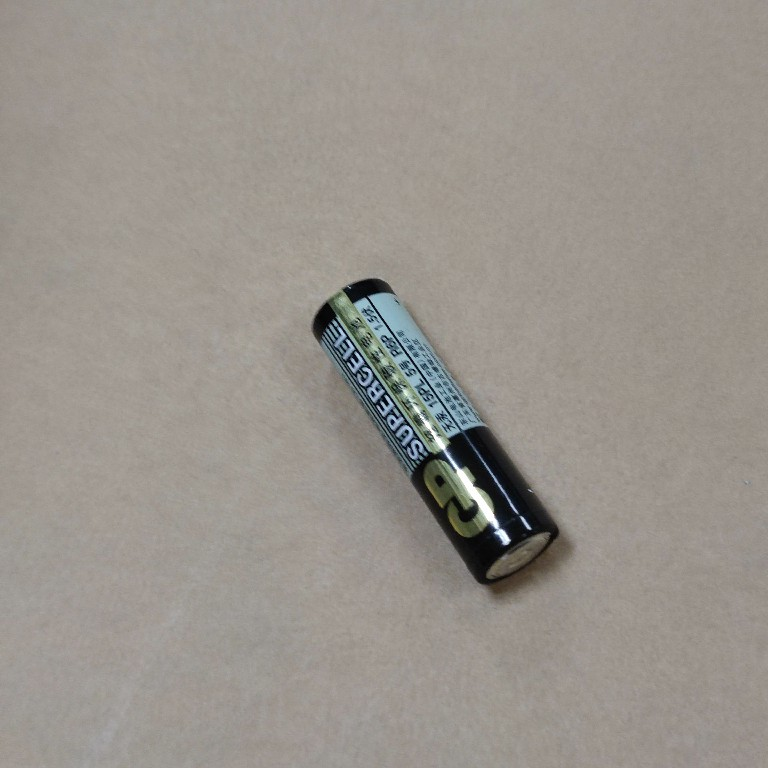charge: (307, 274, 560, 589)
